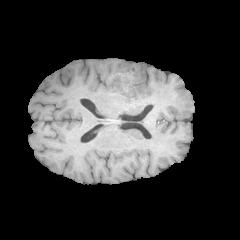glioma: (106, 61, 150, 101)
